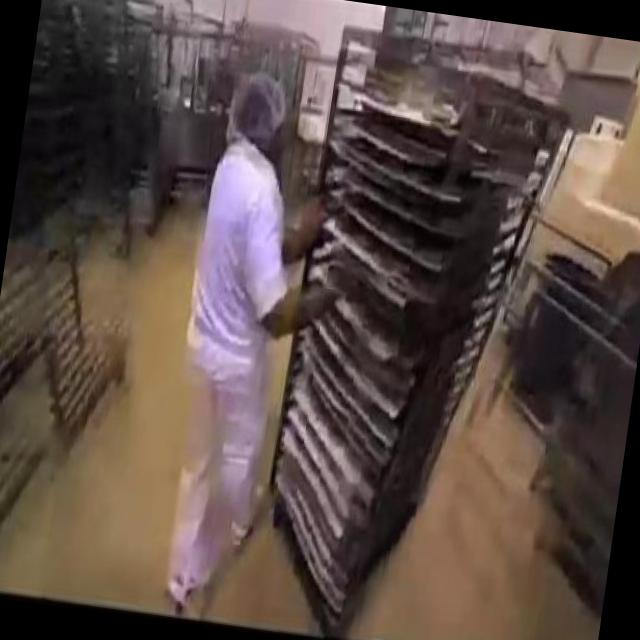hairnet: (233, 70, 286, 132)
